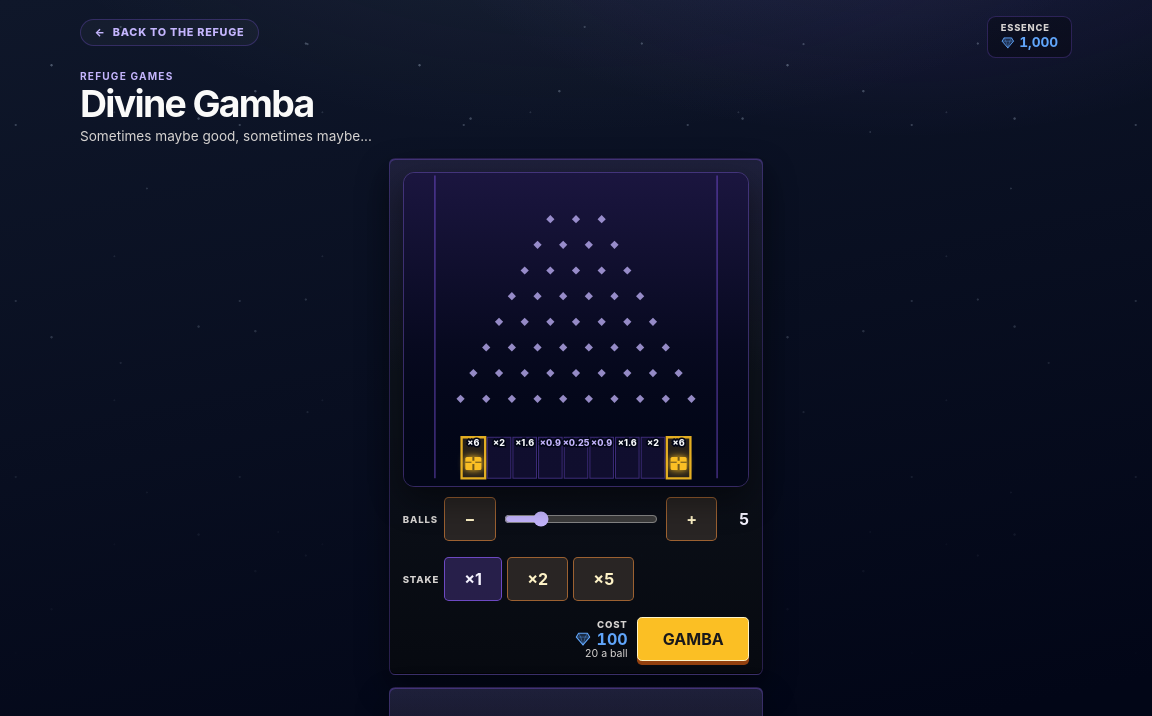
Test: DivineGambaScreen › pays, drops, and shows the house's tally
Click the button "GAMBA".
click(693, 639)  # box [637, 617, 749, 661]
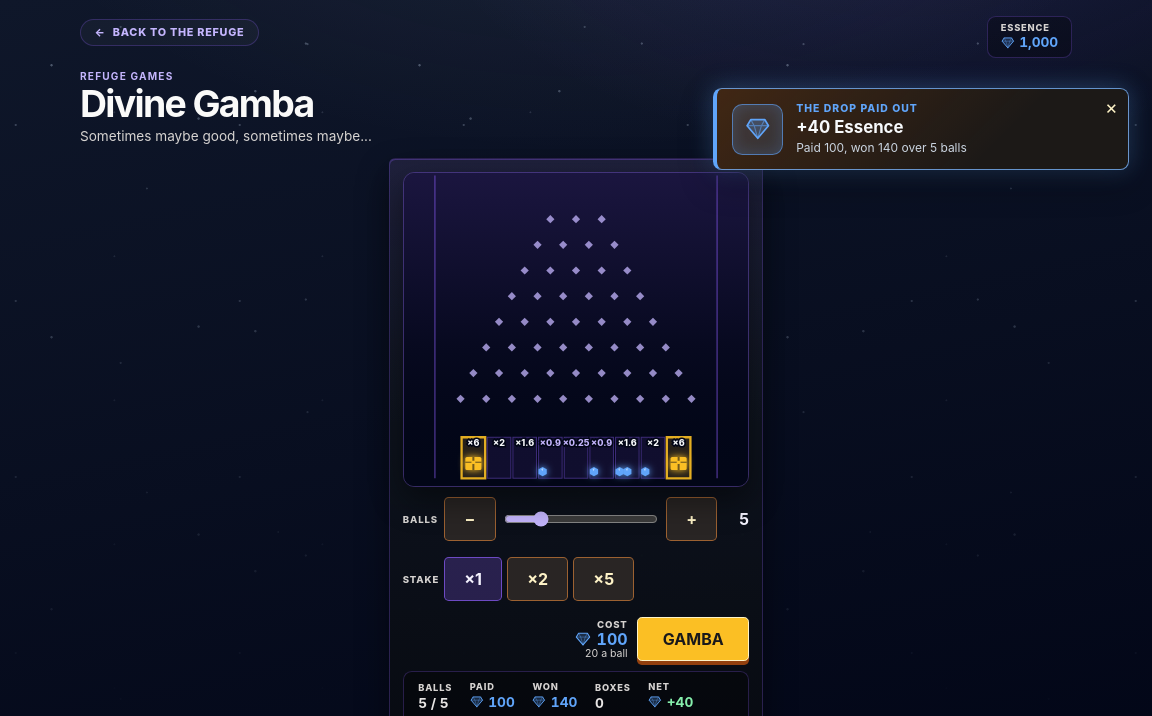
Result: the text "Net" is shown at [648, 681, 670, 692]
Result: the text "5 / 5" is shown at [418, 695, 452, 711]
